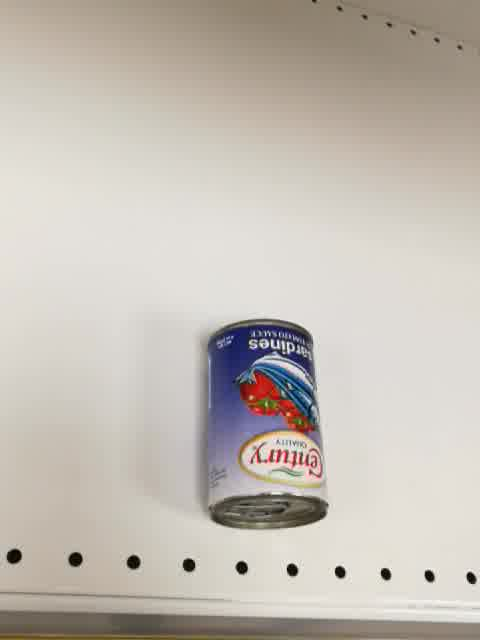sardine: (204, 317, 330, 531)
